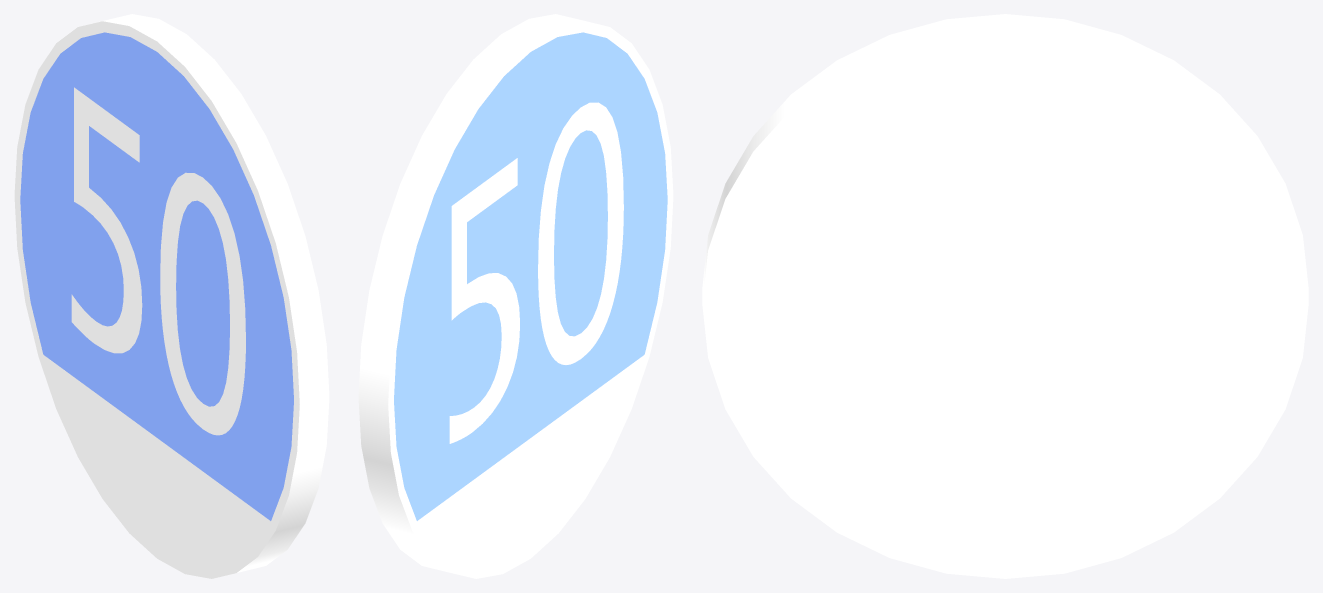
The model's file is Minimum_Speed_Limit_50.glb.
3 views of the same model, side by side, from view 1: azimuth 30°, elevation 25°; view 2: azimuth 150°, elevation 25°; view 3: azimuth 270°, elevation 25° (orthographic). The views are drawn at different scales.
Visible parts, largest first — view 1: Minimum_Speed_Limit_50; view 2: Minimum_Speed_Limit_50; view 3: Minimum_Speed_Limit_50.
Part boxes in pixels (x1,y1,x2,y2): Minimum_Speed_Limit_50: (14, 14, 329, 578); Minimum_Speed_Limit_50: (358, 14, 673, 578); Minimum_Speed_Limit_50: (702, 14, 1308, 578).
Size of the model in its own units: 0.0643 by 1 by 1.
